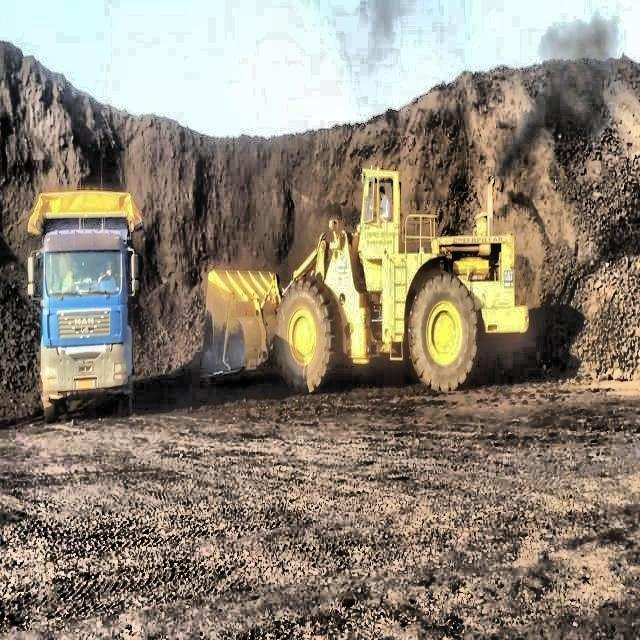bull_dozer/loader/grader: (198, 157, 530, 408)
dump_truck: (25, 181, 143, 427)
